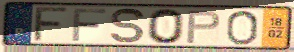F: (31, 6, 72, 43), (70, 7, 108, 43)
O: (146, 7, 186, 45), (224, 9, 261, 46)
P: (184, 9, 223, 45)
S: (109, 7, 147, 45)
